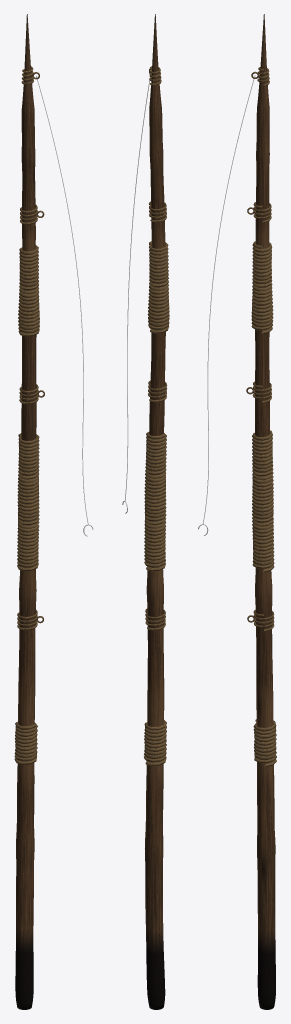
Rendered from Staff.glb.
The picture shows the model from 3 angles, left to right: view 1: azimuth 90°, elevation 25°; view 2: azimuth 210°, elevation 25°; view 3: azimuth 270°, elevation 25°; orthographic projection.
Parts seen in each view (by area): view 1: Staff, Staff_wraps, Staff_guides, Staff_line; view 2: Staff, Staff_wraps, Staff_guides, Staff_line; view 3: Staff, Staff_wraps, Staff_guides, Staff_line.
Boxes of the visible parts, x1,y1,x2,y2 form: Staff: (15,14,36,1009); Staff_wraps: (14,245,39,764); Staff_guides: (17,66,44,630); Staff_line: (36,75,88,524); Staff: (145,14,165,1009); Staff_wraps: (144,241,169,765); Staff_guides: (145,66,167,630); Staff_line: (124,73,150,501); Staff: (255,14,275,1009); Staff_wraps: (251,241,276,766); Staff_guides: (246,67,274,631); Staff_line: (203,75,255,523).
Bounding box in the file's own units: 0.0548 × 2.1 × 0.1515.
Materials: 4 (2 with a texture image).
